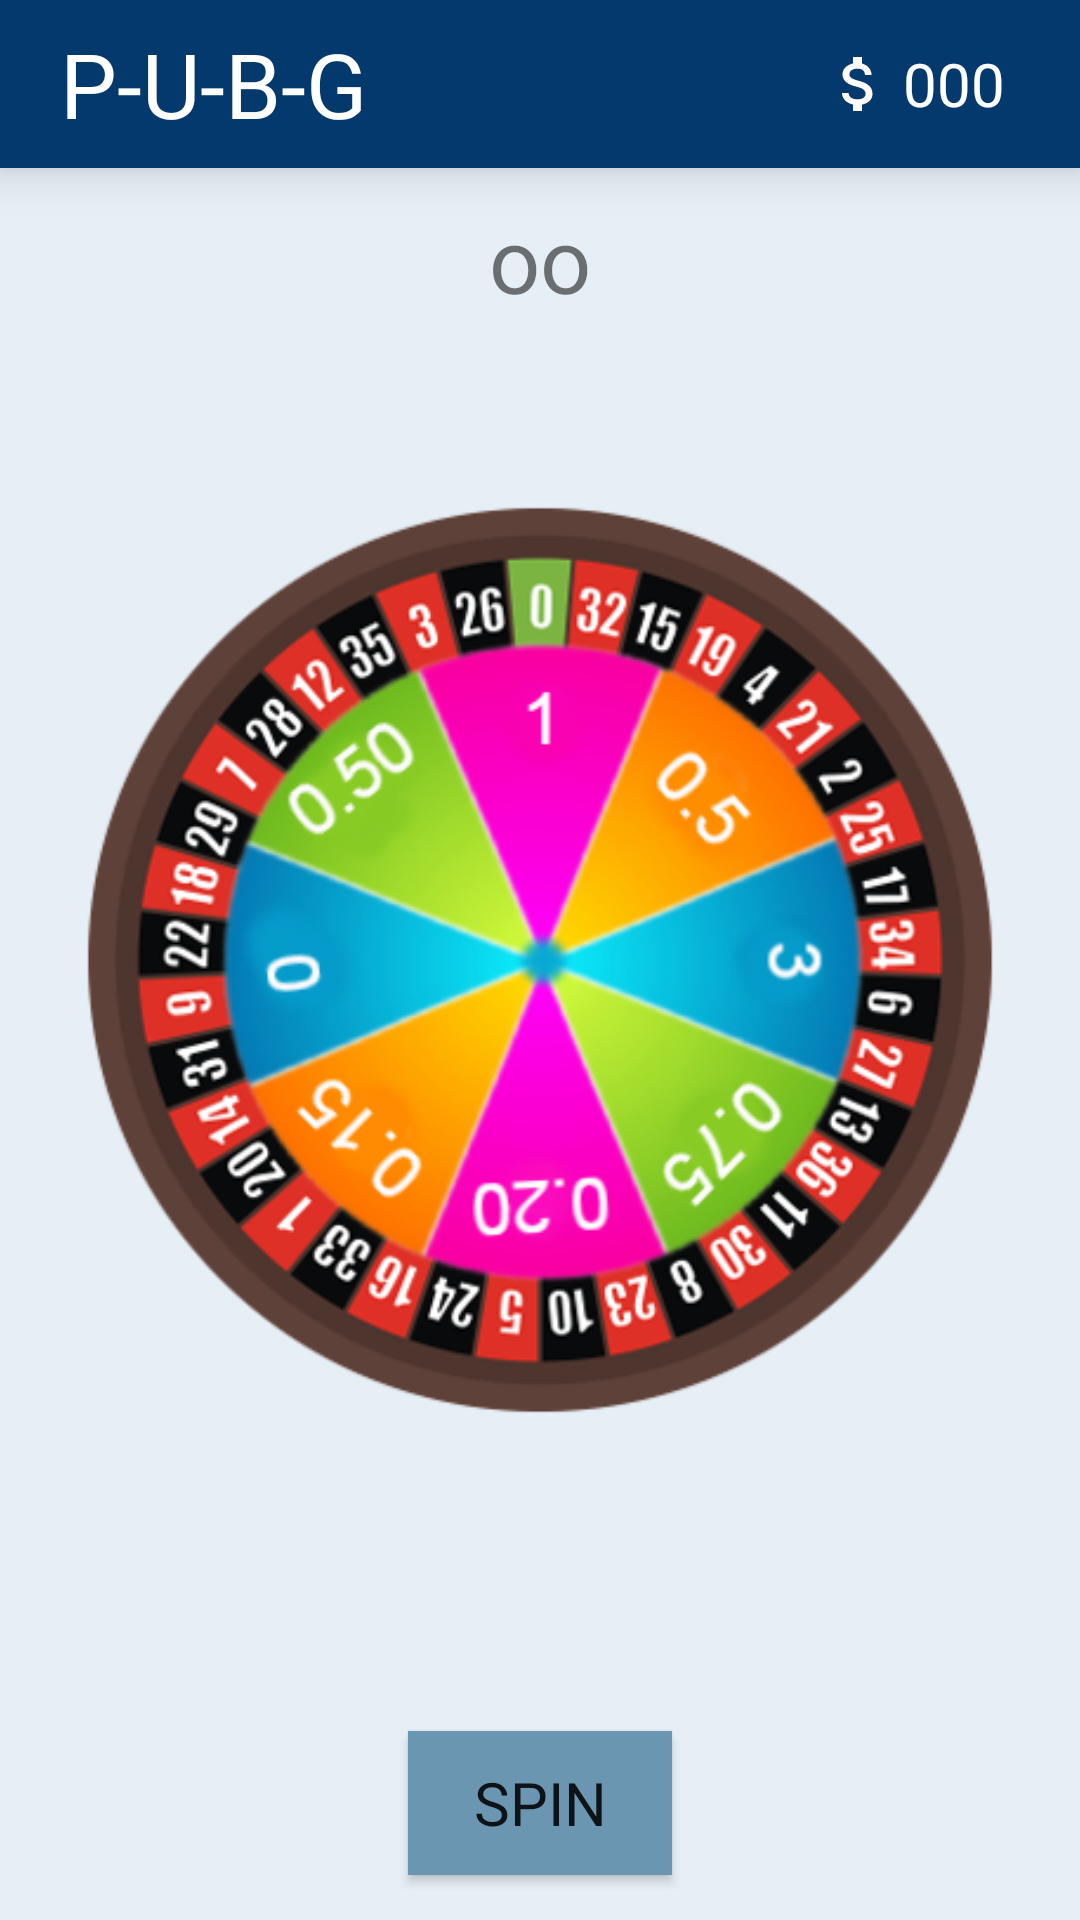

Icon bounding boxes for this 1080px×1920px phone screenshot, format (x1, y1, x2, y2):
attach money: (842, 57, 873, 111)
